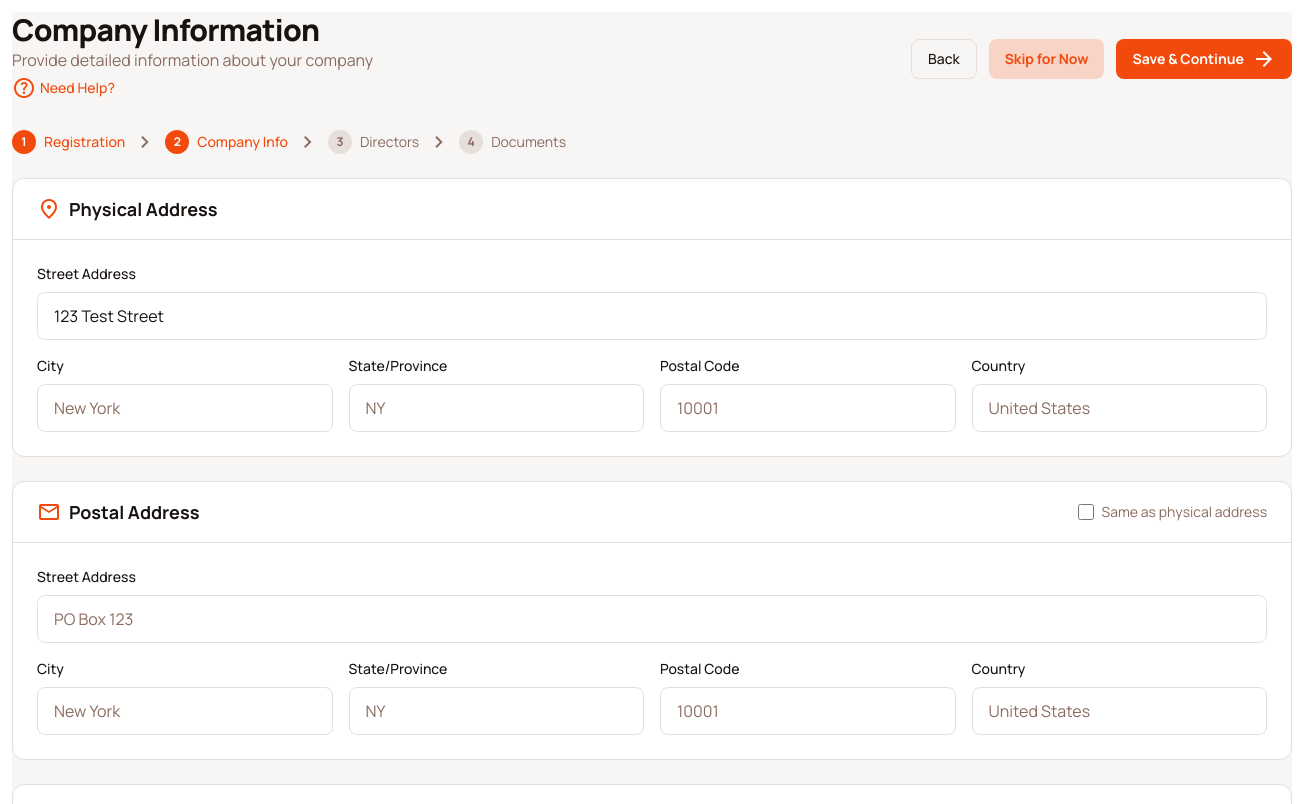
Test: CompanyInfoPage › form submission › shows loading state during submission
Click the button "Save & Continue".
click(1204, 59)  # box [1116,39,1292,79]
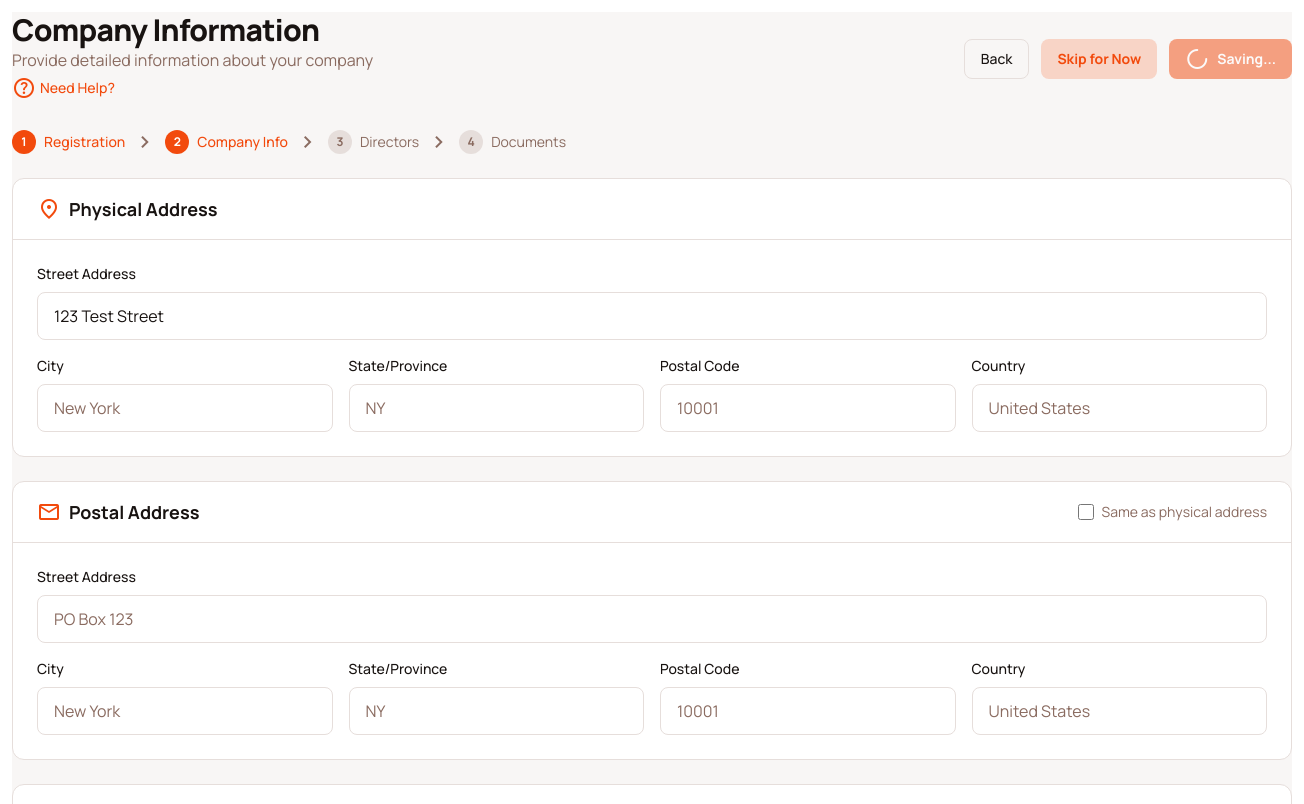
Expected: the button "Saving..." is shown, [1169,39,1292,79]
